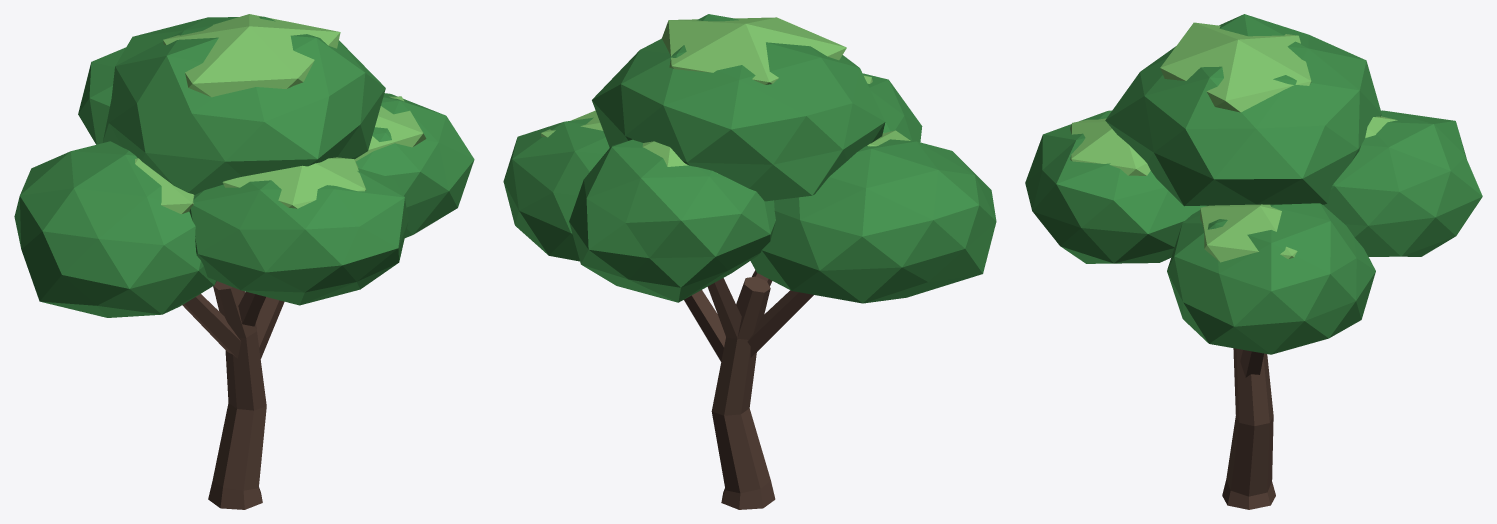
File: maple-summer.glb
3 views of the same model, side by side, from view 1: azimuth 30°, elevation 25°; view 2: azimuth 150°, elevation 25°; view 3: azimuth 270°, elevation 25° (orthographic). The views are drawn at different scales.
Visible parts, largest first — view 1: MapleSummer_Leaves, MapleSummer_LeavesLight, MapleSummer_Trunk; view 2: MapleSummer_Leaves, MapleSummer_Trunk, MapleSummer_LeavesLight; view 3: MapleSummer_Leaves, MapleSummer_LeavesLight, MapleSummer_Trunk.
Part boxes in pixels (<box>): MapleSummer_Leaves: <box>14,16,474,317</box>; MapleSummer_LeavesLight: <box>135,14,426,214</box>; MapleSummer_Trunk: <box>182,281,284,509</box>; MapleSummer_Leaves: <box>503,14,996,303</box>; MapleSummer_Trunk: <box>684,270,813,509</box>; MapleSummer_LeavesLight: <box>541,17,910,173</box>; MapleSummer_Leaves: <box>1025,14,1482,354</box>; MapleSummer_LeavesLight: <box>1070,22,1397,262</box>; MapleSummer_Trunk: <box>1222,348,1275,509</box>.
Bounding box in the file's own units: 18.2 × 18.42 × 16.53.
